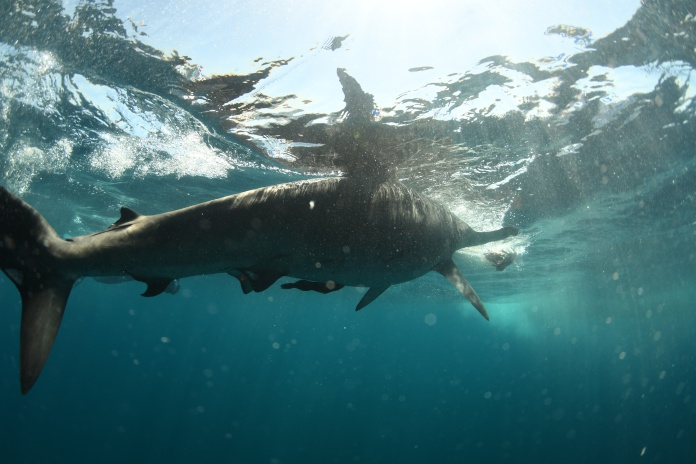Hammer: (1, 105, 521, 406)
